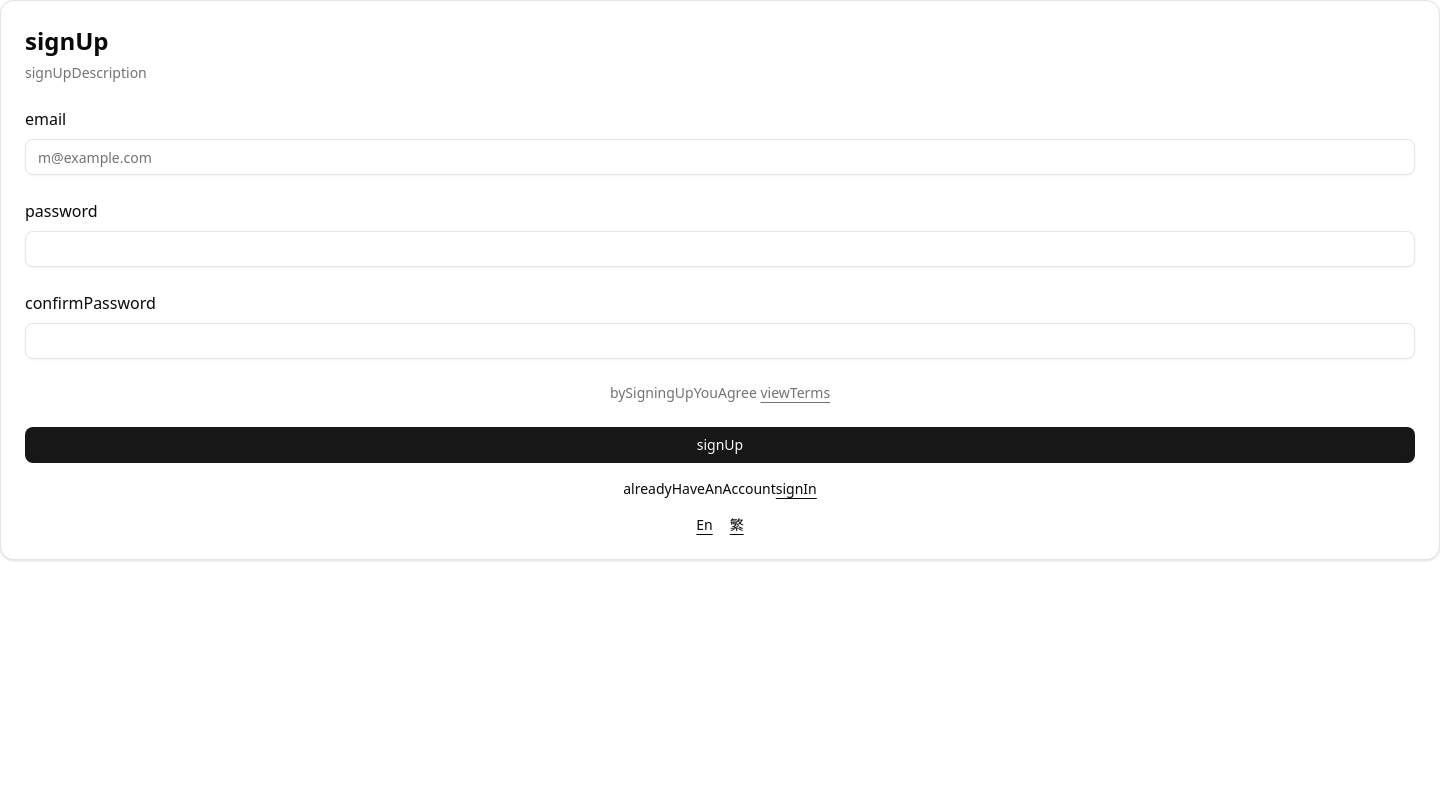
Scenario: shows the password strength meter as the password field is typed into
In the password field labelled "password": (720, 249) [25,231,1415,267], type "password"
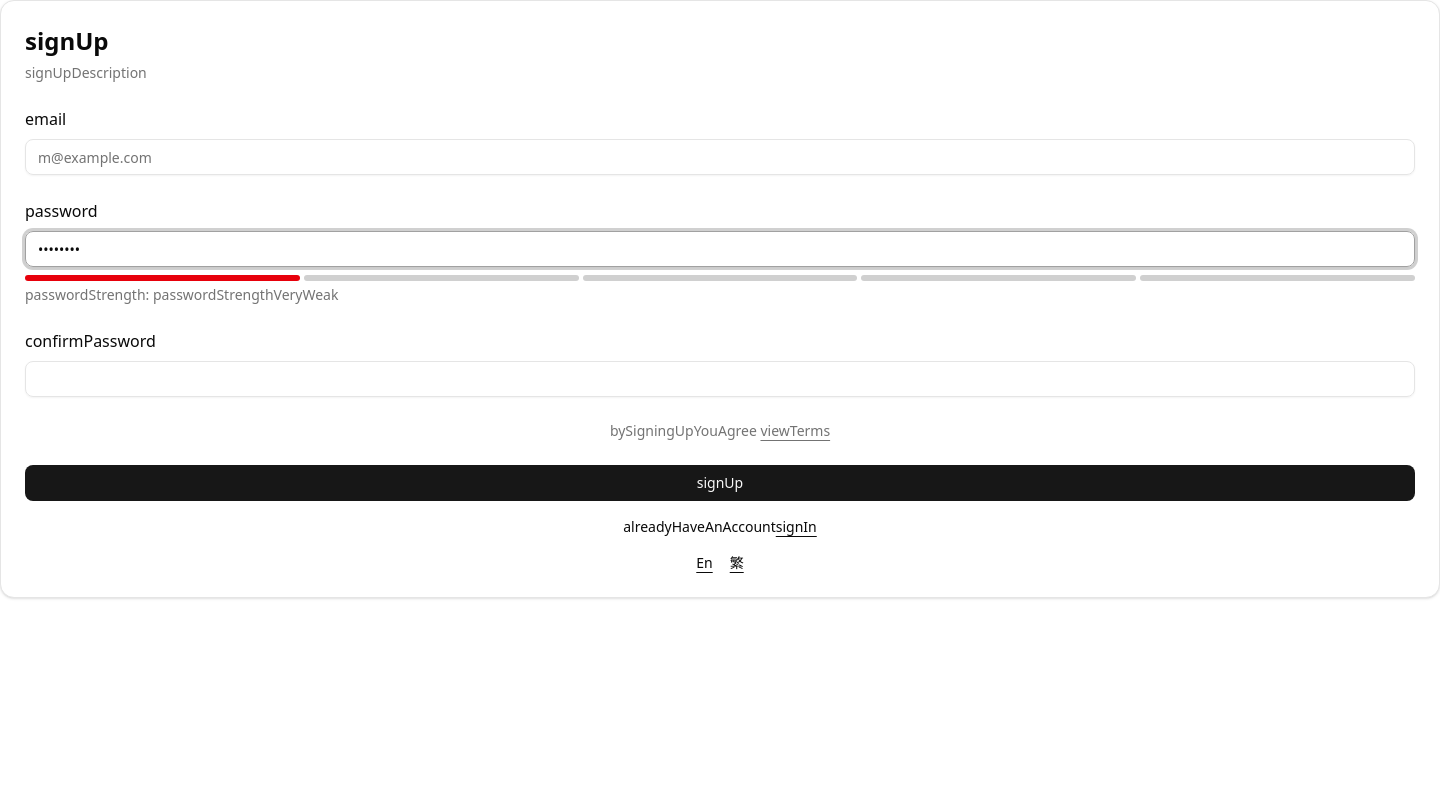
Now the text "passwordStrength: passwordStrengthVeryWeak" is shown, box [25,285,338,304]
In the password field labelled "password": (720, 249) [25,231,1415,267], type "Tr0ub4dor&Xk9mPqLz!"
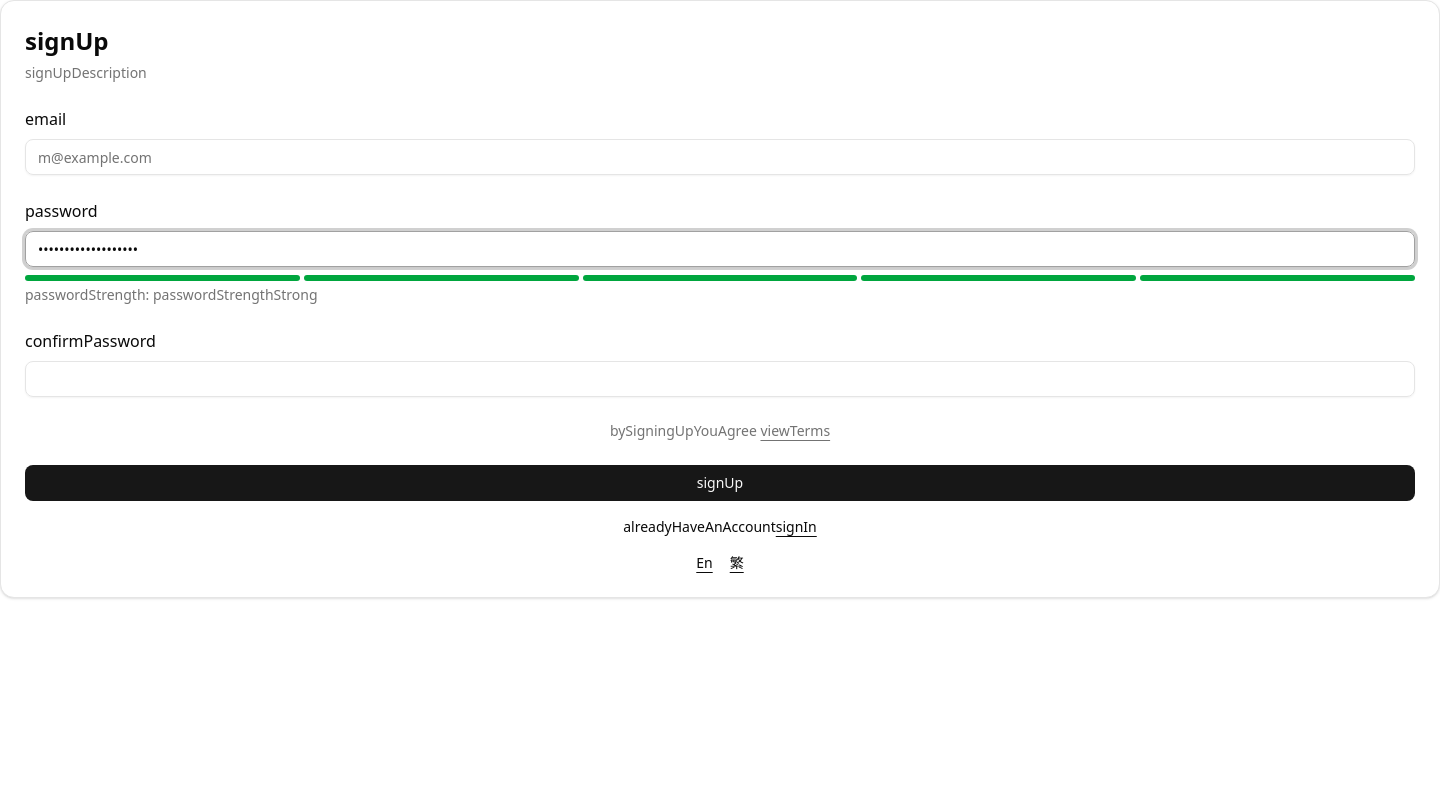
Now the text "passwordStrength: passwordStrengthStrong" is shown, box [25,285,318,304]
